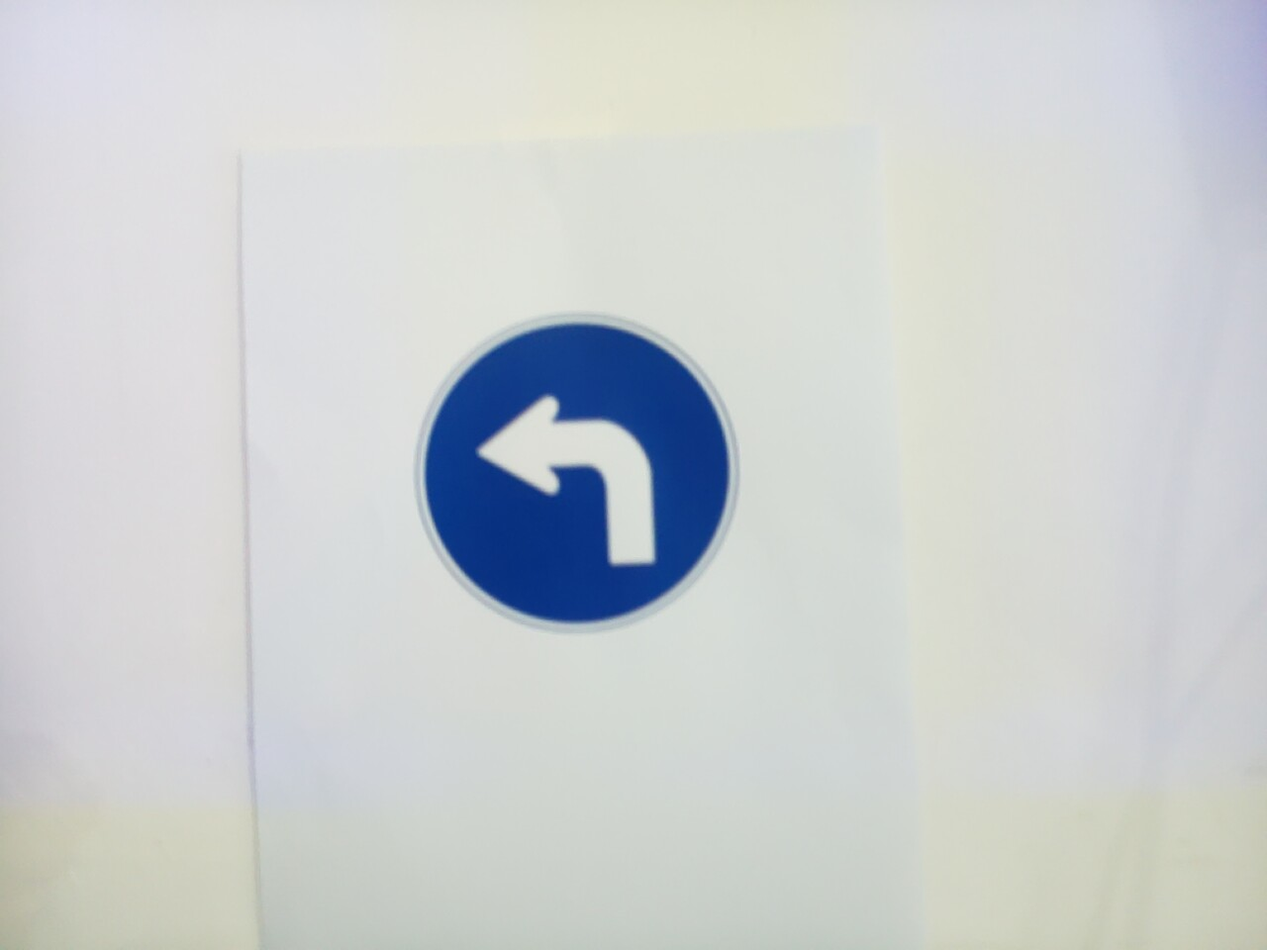left_turn: (415, 314, 739, 633)
